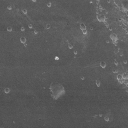corrosion: (49, 80, 66, 100), (19, 36, 28, 46), (116, 73, 125, 83), (80, 23, 88, 34), (19, 7, 28, 15), (4, 87, 11, 95), (99, 60, 106, 68), (78, 74, 85, 82), (6, 26, 13, 33), (95, 79, 101, 87), (26, 23, 34, 29), (67, 43, 73, 50), (54, 55, 60, 61), (46, 2, 52, 8), (20, 26, 25, 32), (73, 50, 78, 56)
